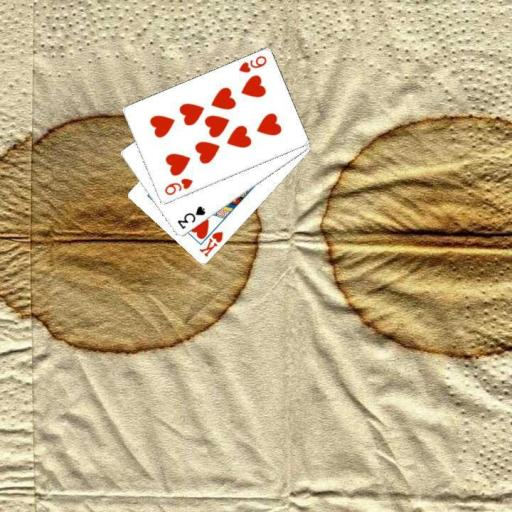card-corner: (174, 203, 207, 231), (196, 228, 225, 259), (235, 52, 268, 74), (162, 175, 194, 197)
